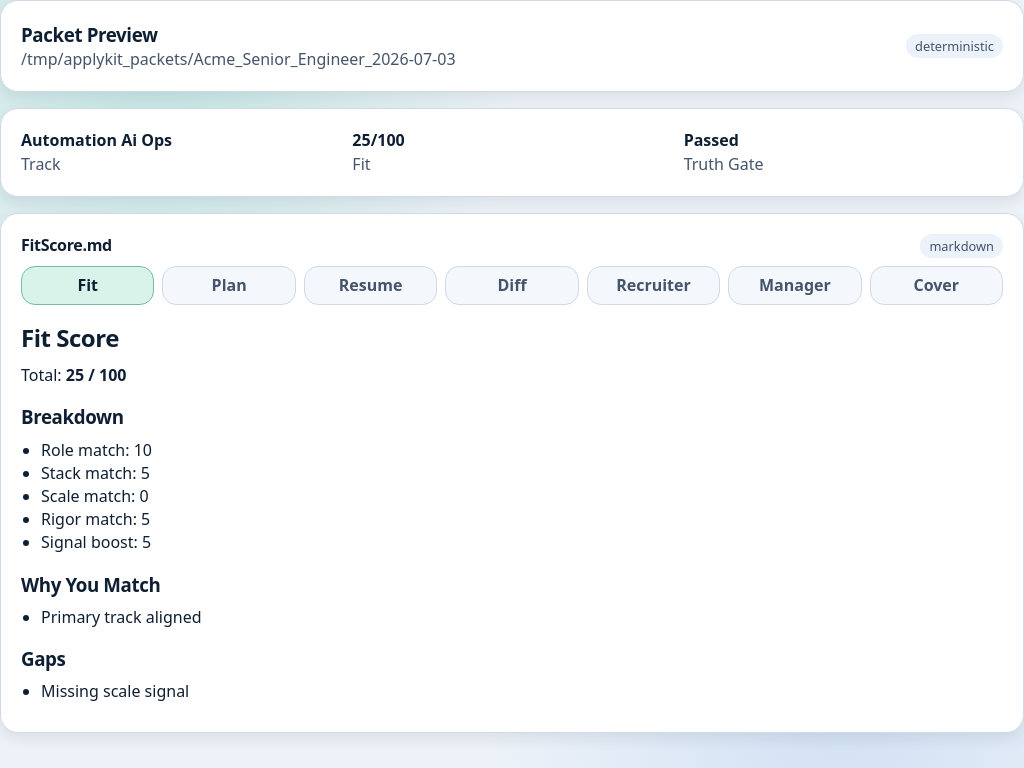
Test: PacketPreview › renders the serialized native packet detail contract
Click the tab "Manager" at (795,286), box x1=728 y1=266 x2=862 y2=306
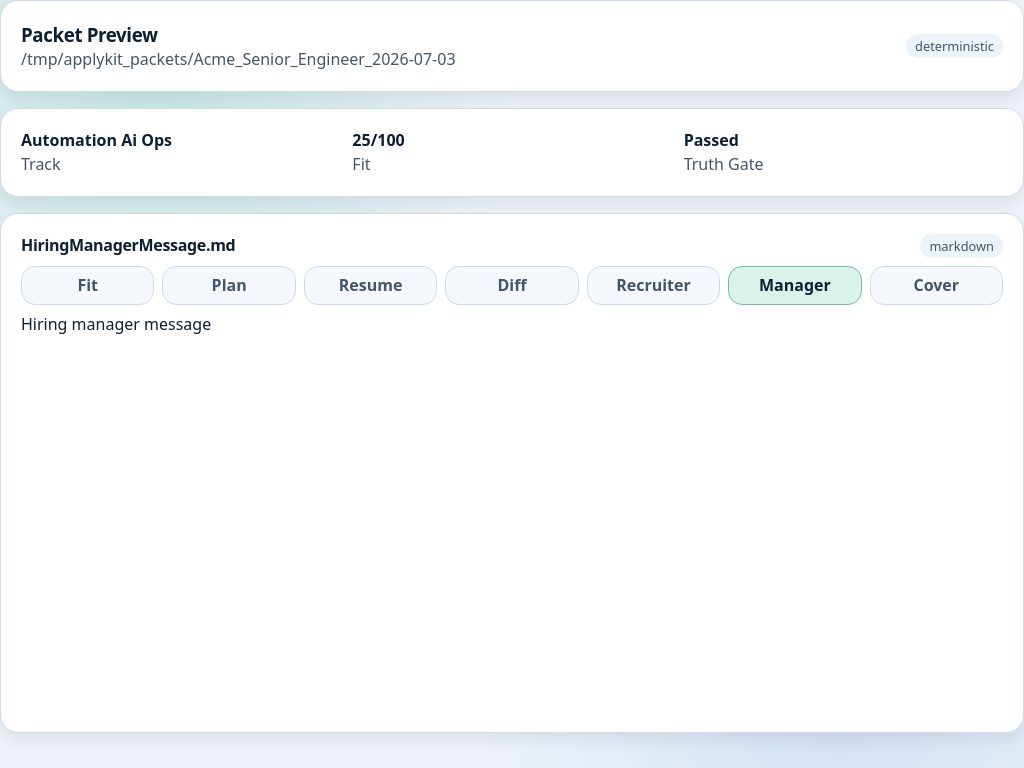
Expected: the text "deterministic" is shown, x1=906 y1=34 x2=1003 y2=58
Expected: the heading "HiringManagerMessage.md" is shown, x1=21 y1=234 x2=235 y2=258
Expected: the text "Hiring manager message" is shown, x1=21 y1=313 x2=211 y2=335
